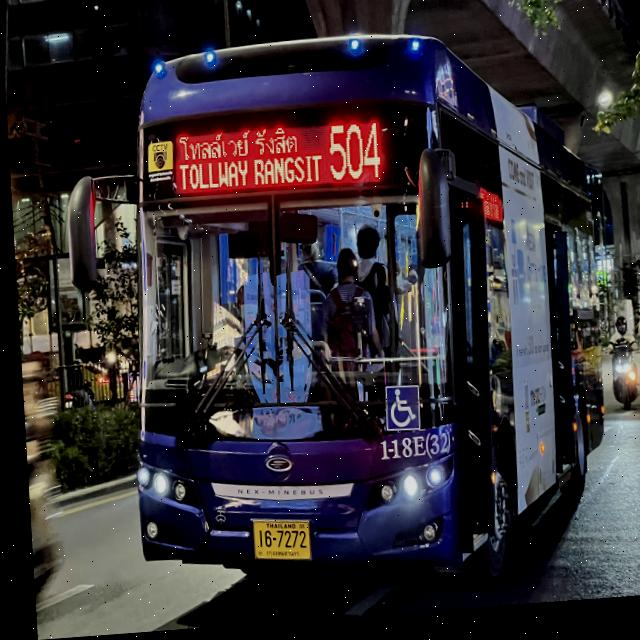Bus Line Number: (322, 123, 384, 188)
Bus Side Number: (372, 433, 448, 470)
Destination Sign: (168, 122, 322, 198)
TSB-Bus: (106, 14, 612, 615)
